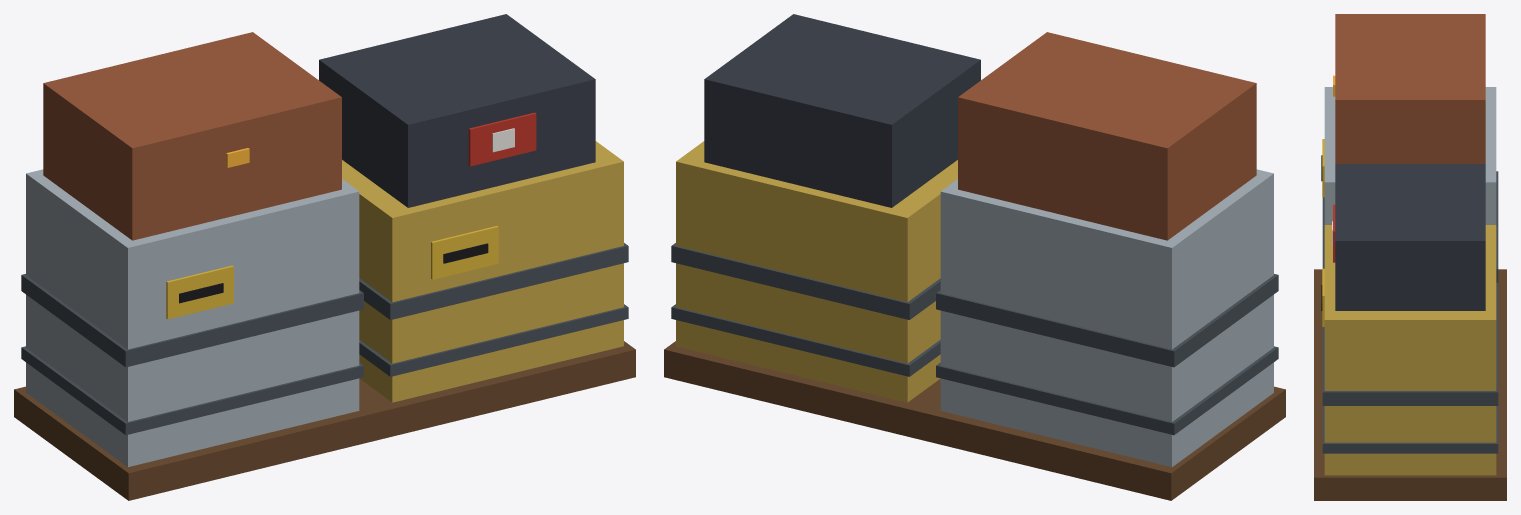
Rendered from GV_ShipCrates_01.glb.
3 views of the same model, side by side, from view 1: azimuth 30°, elevation 25°; view 2: azimuth 150°, elevation 25°; view 3: azimuth 270°, elevation 25° (orthographic). The views are drawn at different scales.
Visible parts, largest first — view 1: GV_ShipCrates_01; view 2: GV_ShipCrates_01; view 3: GV_ShipCrates_01.
Part boxes in pixels (bbox=[...]): GV_ShipCrates_01: bbox=[14, 14, 635, 500]; GV_ShipCrates_01: bbox=[664, 14, 1285, 500]; GV_ShipCrates_01: bbox=[1314, 14, 1506, 500].
Size of the model in its own units: 2.3 by 1.47 by 0.9.
1 material, 1 textured.
